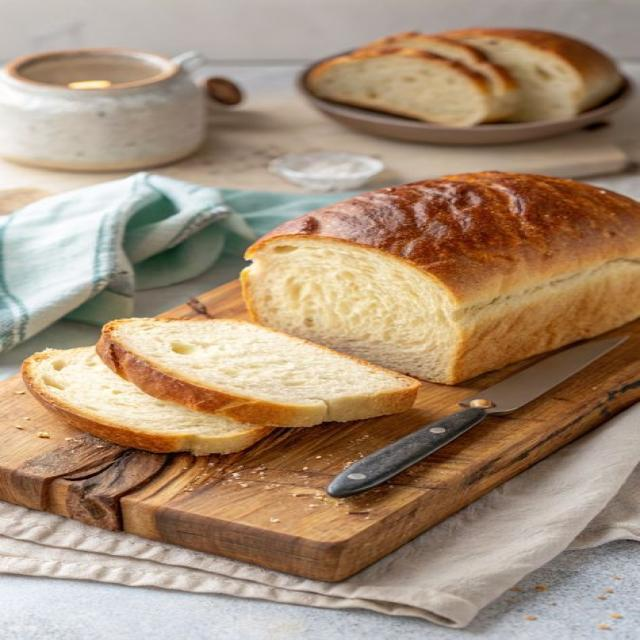sliced_bread: (101, 319, 418, 426), (23, 347, 269, 453), (307, 47, 509, 125), (365, 33, 517, 120)
